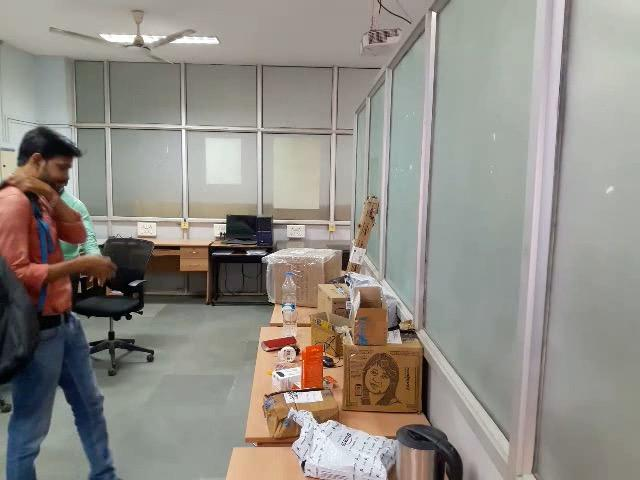Normal: (1, 120, 277, 480), (0, 123, 130, 479)
